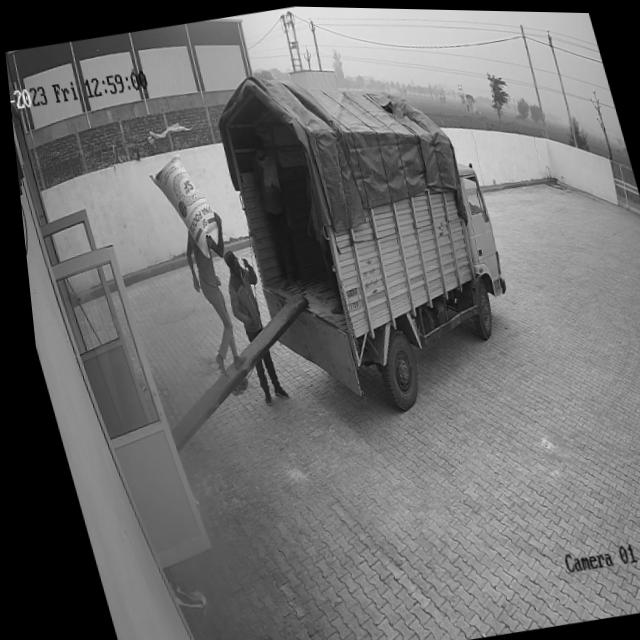sack: (141, 148, 231, 264)
